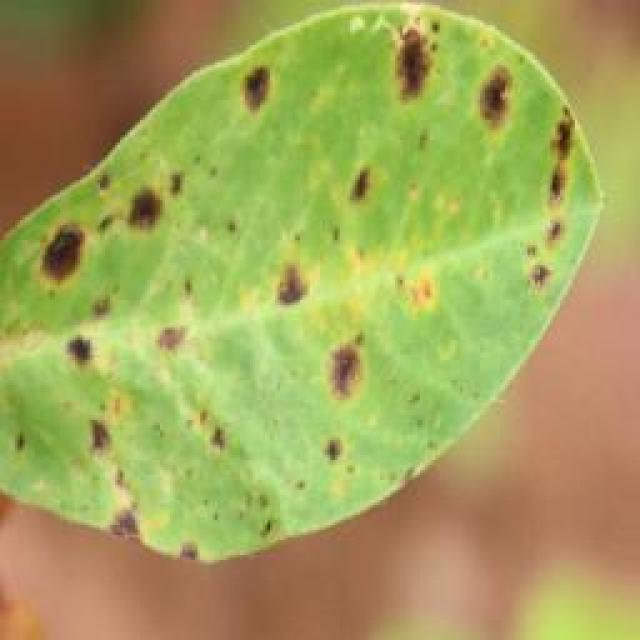Yellowish: (0, 0, 588, 561)
